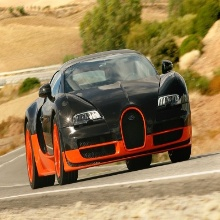no damage: (24, 48, 194, 188)
